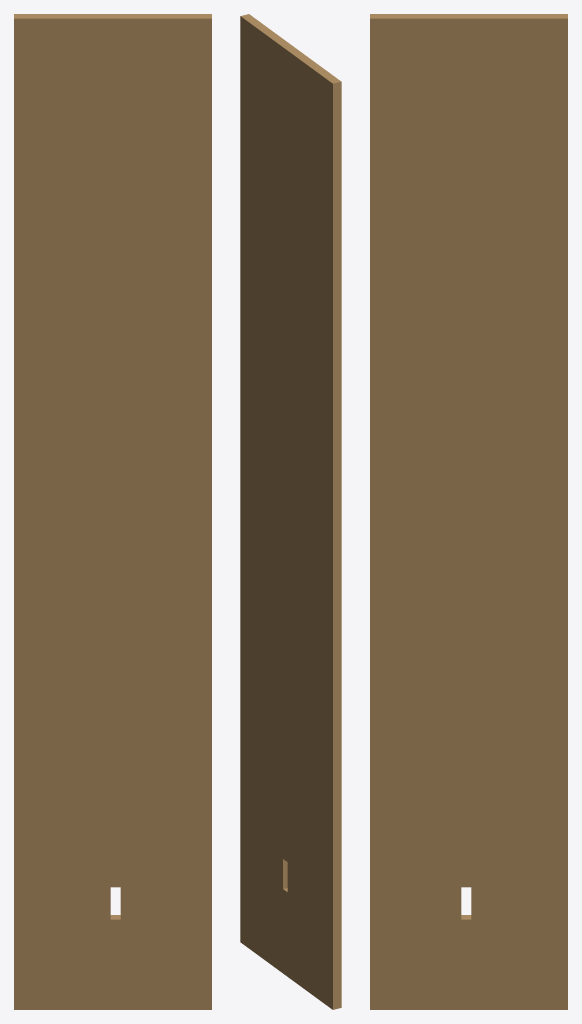
Rendered from elev_lateral_d.glb.
3 renders of one model, left to right at view 1: azimuth 90°, elevation 25°; view 2: azimuth 210°, elevation 25°; view 3: azimuth 270°, elevation 25°, orthographic. The views are drawn at different scales.
Parts seen in each view (by area): view 1: elev_lateral_d; view 2: elev_lateral_d; view 3: elev_lateral_d.
Boxes of the visible parts, x1,y1,x2,y2 form: elev_lateral_d: [14, 14, 211, 1009]; elev_lateral_d: [240, 14, 341, 1009]; elev_lateral_d: [370, 14, 567, 1009].
Size of the model in its own units: 6 by 614 by 111.
